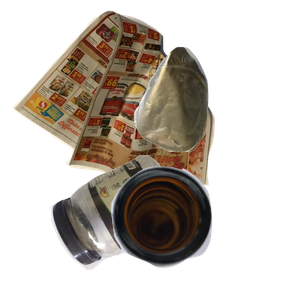glass: (109, 164, 300, 300)
paper: (10, 10, 217, 189)
plastic: (48, 152, 228, 300)
trash: (131, 44, 300, 189)
